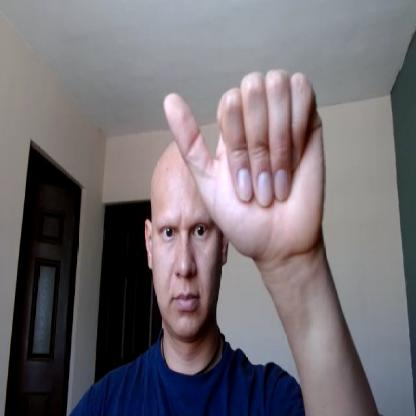A: (163, 71, 324, 259)
